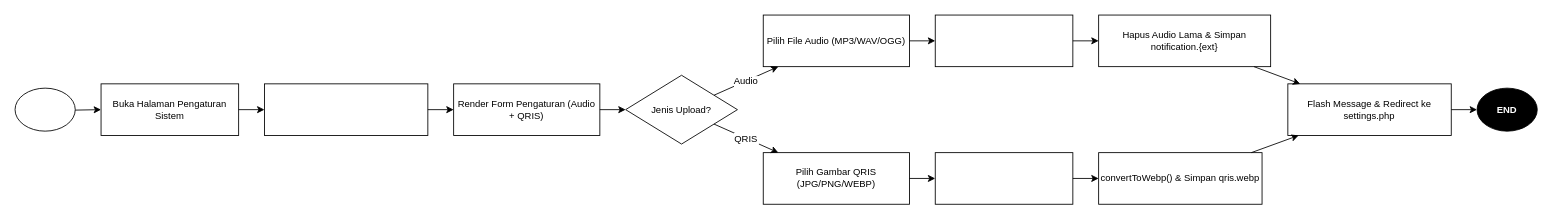
Image size: 1552x219. Some labels were removed from this diagram. Each missing label, with the box of its shape:
Cek File Audio Notifikasi & Gambar QRIS Toko: (264, 83, 428, 135)
START: (14, 87, 75, 131)
Validasi MIME Audio (finfo_file): (934, 14, 1073, 67)
Validasi MIME Gambar (finfo_file): (934, 152, 1073, 204)
